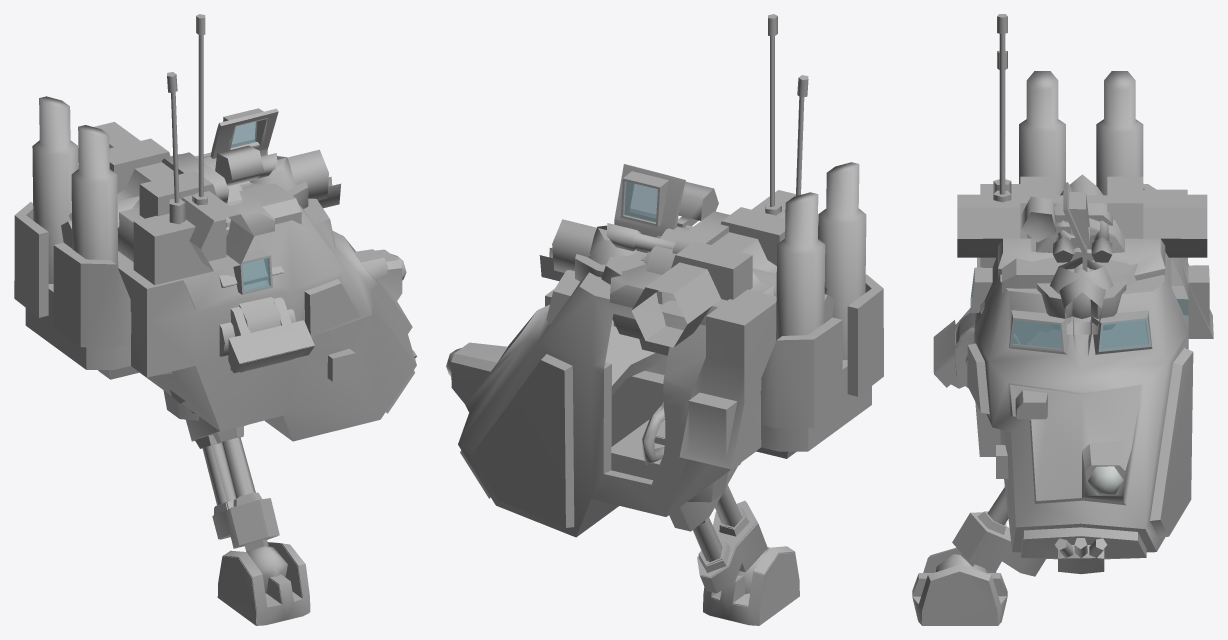
The model's file is sentinel_lascannon-1qkwx1b.glb.
The picture shows the model from 3 angles, left to right: view 1: azimuth 30°, elevation 25°; view 2: azimuth 150°, elevation 25°; view 3: azimuth 270°, elevation 25°; orthographic projection. The views are drawn at different scales.
Parts seen in each view (by area): view 1: turret, turret_interior, body, legr3, legl2, legl3, legl4, legr4, gun, door, legl1, gun_rot_melta (+1 smaller); view 2: turret, turret_interior, body, legr3, door, legr4, legl3, gun, legl1, legl4; view 3: turret, turret_interior, body, legl4, legl3, gun, gun_rot_melta, door, legr2, legl2, legr1, legl1 (+1 smaller).
Boxes of the visible parts, <box> form: turret: <box>14,14,417,441</box>; turret_interior: <box>14,97,415,440</box>; body: <box>78,122,308,271</box>; legr3: <box>191,425,278,593</box>; legl2: <box>170,297,313,413</box>; legl3: <box>186,416,287,577</box>; legl4: <box>223,542,310,625</box>; legr4: <box>217,543,309,625</box>; gun: <box>61,149,340,248</box>; door: <box>210,108,278,158</box>; legl1: <box>198,155,282,332</box>; gun_rot_melta: <box>226,183,301,235</box>; turret: <box>446,14,883,537</box>; turret_interior: <box>451,163,883,537</box>; body: <box>575,190,818,355</box>; legr3: <box>642,419,767,593</box>; door: <box>613,164,685,326</box>; legr4: <box>703,552,799,625</box>; legl3: <box>642,408,768,577</box>; gun: <box>539,219,834,322</box>; legl1: <box>643,226,689,274</box>; legl4: <box>703,546,799,607</box>; turret: <box>967,14,1213,574</box>; turret_interior: <box>967,71,1213,558</box>; body: <box>957,176,1207,329</box>; legl4: <box>912,547,1006,625</box>; legl3: <box>936,487,1045,573</box>; gun: <box>1059,174,1105,355</box>; gun_rot_melta: <box>1002,257,1070,293</box>; door: <box>1063,182,1089,271</box>; legr2: <box>934,321,1029,388</box>; legl2: <box>933,308,1031,373</box>; legr1: <box>959,228,1124,344</box>; legl1: <box>956,218,1124,343</box>.
Bounding box in the file's own units: 46.98 × 70.9 × 33.56.
